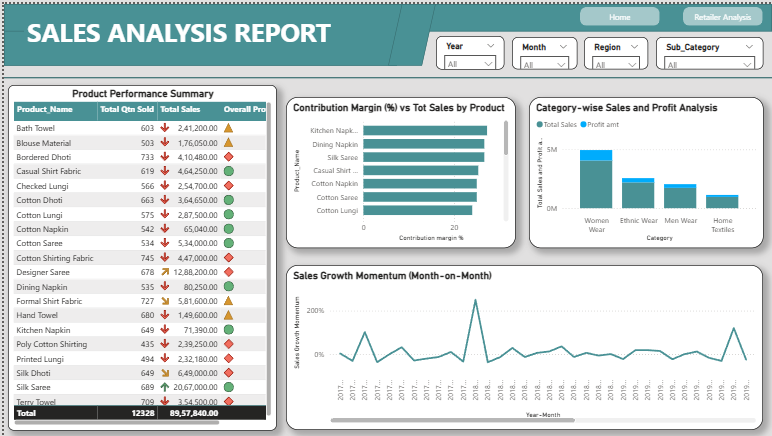

This screenshot's page, from the dashboard's own definition file:
{"tool":"powerbi","page":{"name":"Sales & product performance analysis","canvas":[1280,720],"ordinal":1},"visuals":[{"type":"shape","box":[0,0,654.7,103.2],"z":0},{"type":"shape","box":[0,0,1280,45.7],"z":1000},{"type":"textbox","box":[32.6,11.3,622.3,68],"z":2000},{"type":"shape","box":[640,0,79.6,103.2],"z":3000},{"type":"slicer","fields":{"Values":["Date Table.Month"]},"box":[847.1,54.3,108.6,54.3],"z":4000},{"type":"slicer","fields":{"Values":["Date Table.Year"]},"box":[720,52.9,114.3,55.7],"z":5000},{"type":"shape","box":[0,110,1280,25.7],"z":6000},{"type":"tableEx","title":"Product Performance Summary","fields":{"Values":["Product.Product_Name","Base Measure.Total Qtn Sold","Base Measure.Total Sales","Base Measure.Profit %"]},"box":[7.1,134.7,447.9,575.5],"z":7000},{"type":"lineChart","title":"Sales Growth Momentum (Month-on-Month)","fields":{"Category":["Date Table.Year-Month"],"Y":["KPI's.Sales Growth Momentum"]},"box":[470.6,435.2,795.2,275],"z":8000},{"type":"columnChart","title":"Category-wise Sales and Profit Analysis","fields":{"Category":["Product.Category"],"Y":["Base Measure.Total Sales","Base Measure.Profit amt"]},"box":[874.6,154.5,391.2,252.3],"z":9000},{"type":"slicer","fields":{"Values":["Region.Region"]},"box":[967.1,54.3,107.1,54.3],"z":10000},{"type":"slicer","fields":{"Values":["Product.Sub_Category"]},"box":[1087.1,54.3,178.6,54.3],"z":11000},{"type":"barChart","title":"Contribution Margin (%) vs Tot Sales by Product","fields":{"Y":["KPI's.Contribution margin %"],"Category":["Product.Product_Name"]},"box":[470.6,154.5,382.7,252.3],"z":12000},{"type":"actionButton","box":[960,4.3,132.9,31.4],"z":13000},{"type":"actionButton","box":[1131.4,4.3,132.9,31.4],"z":14000}]}

Visuals, with their boxes in screenshot pixels (x1, y1, x2, y2), scaled from the page's 1280x720 canvas onto the 772x436 screenshot:
shape: left=0, top=0, right=395, bottom=62
shape: left=0, top=0, right=771, bottom=28
textbox: left=20, top=7, right=395, bottom=48
shape: left=386, top=0, right=434, bottom=62
slicer - Date Table.Month: left=511, top=33, right=576, bottom=66
slicer - Date Table.Year: left=434, top=32, right=503, bottom=66
shape: left=0, top=67, right=771, bottom=82
"Product Performance Summary" tableEx: left=4, top=82, right=274, bottom=430
"Sales Growth Momentum (Month-on-Month)" lineChart: left=284, top=264, right=763, bottom=430
"Category-wise Sales and Profit Analysis" columnChart: left=527, top=94, right=763, bottom=246
slicer - Region.Region: left=583, top=33, right=648, bottom=66
slicer - Product.Sub_Category: left=656, top=33, right=763, bottom=66
"Contribution Margin (%) vs Tot Sales by Product" barChart: left=284, top=94, right=515, bottom=246
actionButton: left=579, top=3, right=659, bottom=22
actionButton: left=682, top=3, right=763, bottom=22
